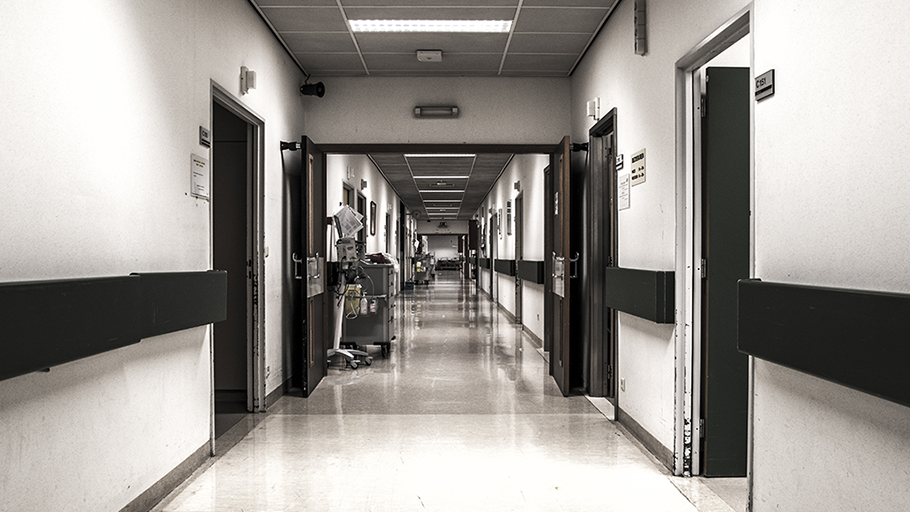door_handle: (551, 253, 565, 280), (309, 253, 320, 279), (292, 253, 303, 279), (570, 253, 579, 278)
medical_drawer: (341, 263, 400, 356)
